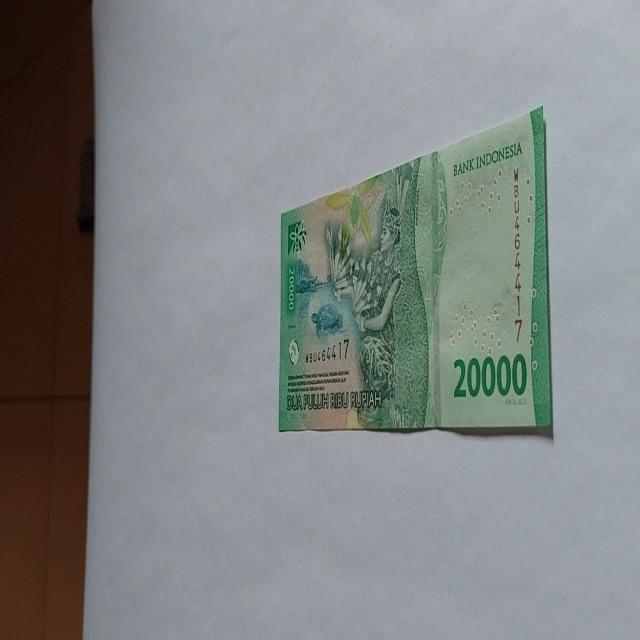dua puluh ribu rupiah: (277, 104, 553, 438)
